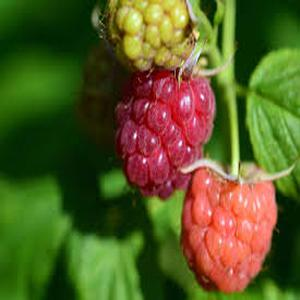raspb: (109, 59, 275, 293)
